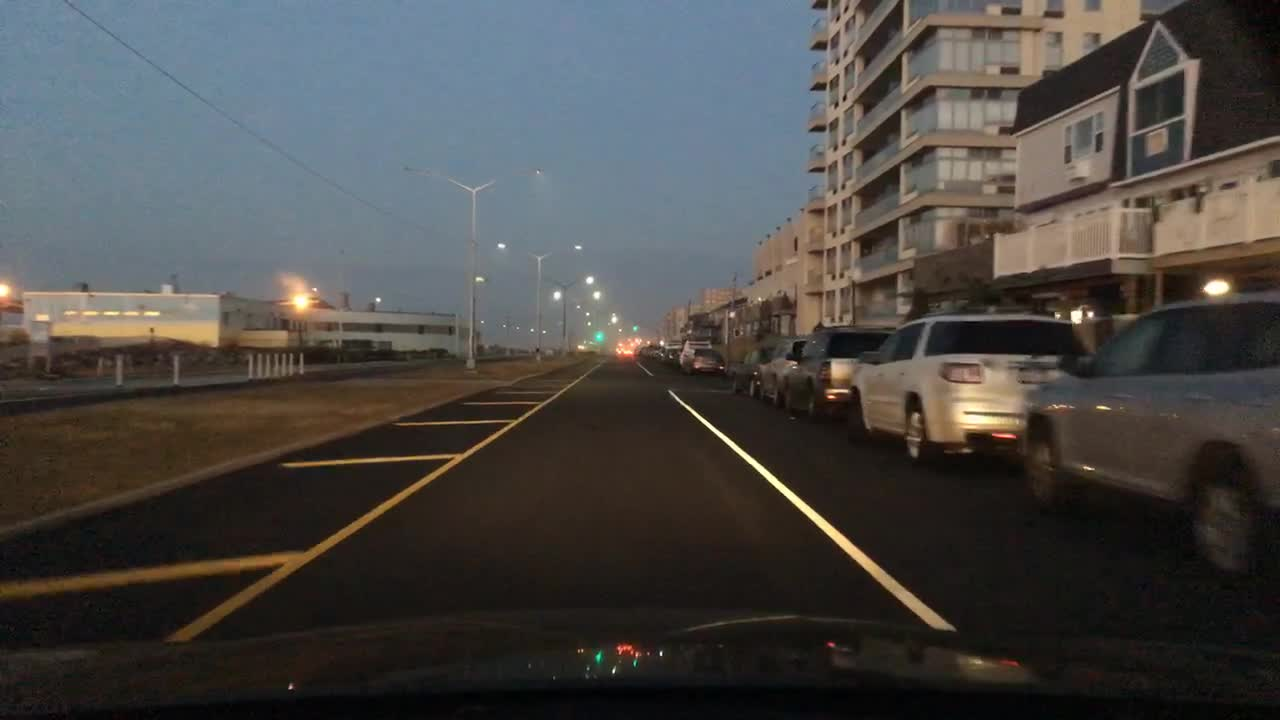car: (1018, 288, 1279, 581), (845, 305, 1089, 463), (781, 321, 897, 418), (757, 335, 805, 404), (729, 344, 769, 396), (680, 346, 725, 376), (677, 339, 712, 363), (661, 342, 681, 363), (657, 342, 666, 360), (652, 342, 661, 358), (645, 344, 655, 357), (638, 344, 646, 355), (621, 347, 633, 354), (615, 346, 622, 353)
traffic light: (595, 332, 602, 340), (632, 324, 638, 331)
